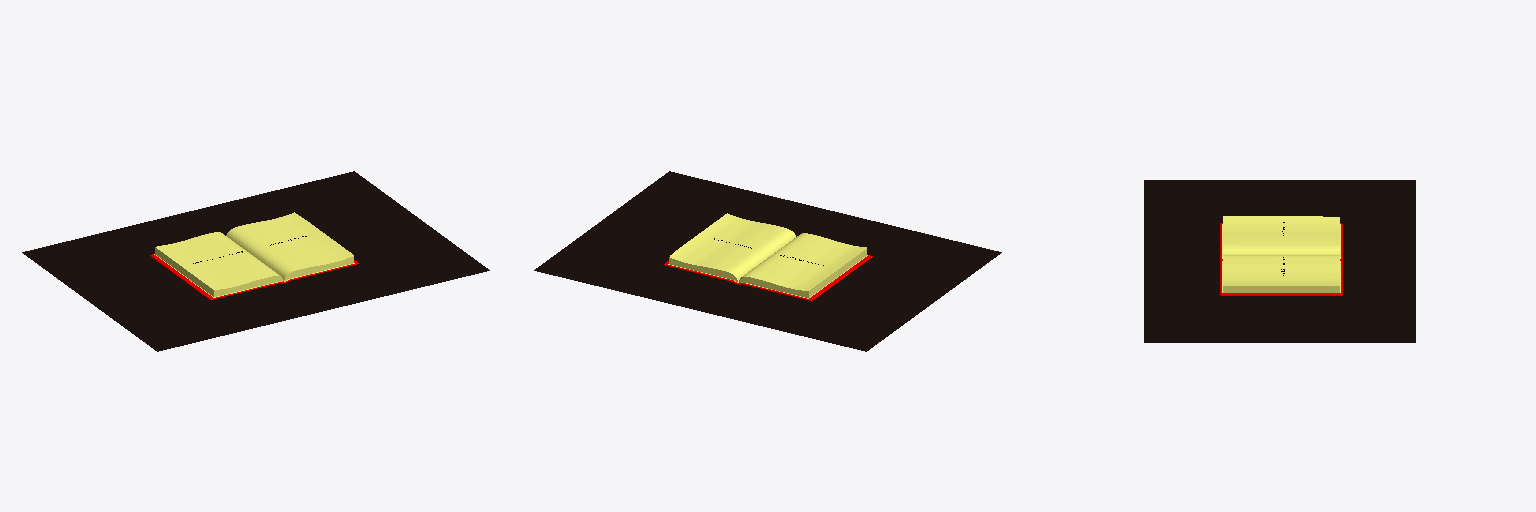
The model's file is book-babadook-mirror.obj.
3 views of the same model, side by side, from view 1: azimuth 30°, elevation 25°; view 2: azimuth 150°, elevation 25°; view 3: azimuth 270°, elevation 25° (orthographic).
Visible parts, largest first — view 1: And_this_is_his_book._Text; view 2: And_this_is_his_book._Text; view 3: And_this_is_his_book._Text.
Part boxes in pixels (x1,y1,x2,y2): And_this_is_his_book._Text: (22, 171, 489, 351); And_this_is_his_book._Text: (534, 171, 1001, 351); And_this_is_his_book._Text: (1144, 180, 1415, 342).
Size of the model in its own units: 11.04 by 0.3629 by 7.8.